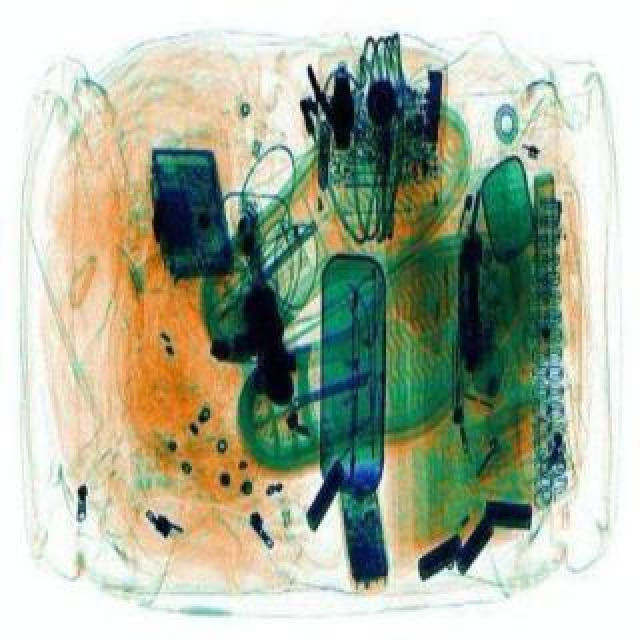gun: (208, 274, 300, 404)
